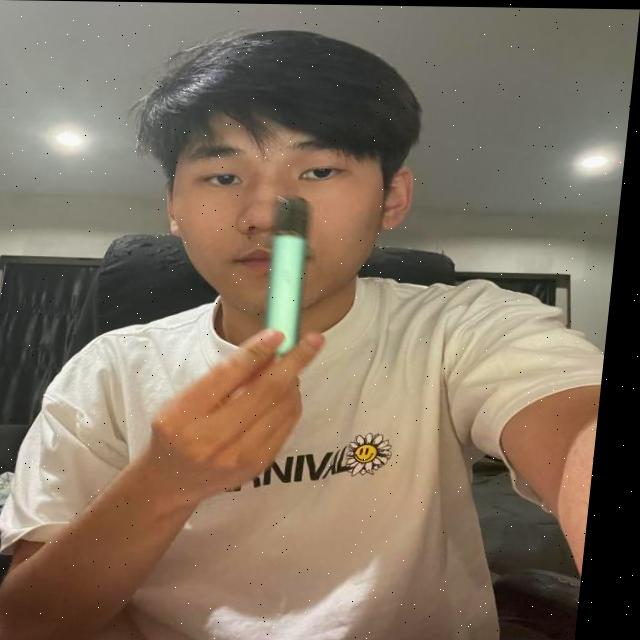vape: (264, 194, 317, 353)
